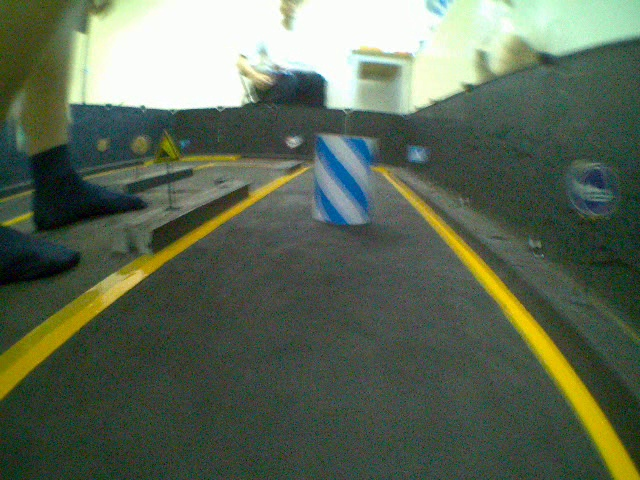bucket: (313, 131, 373, 228)
